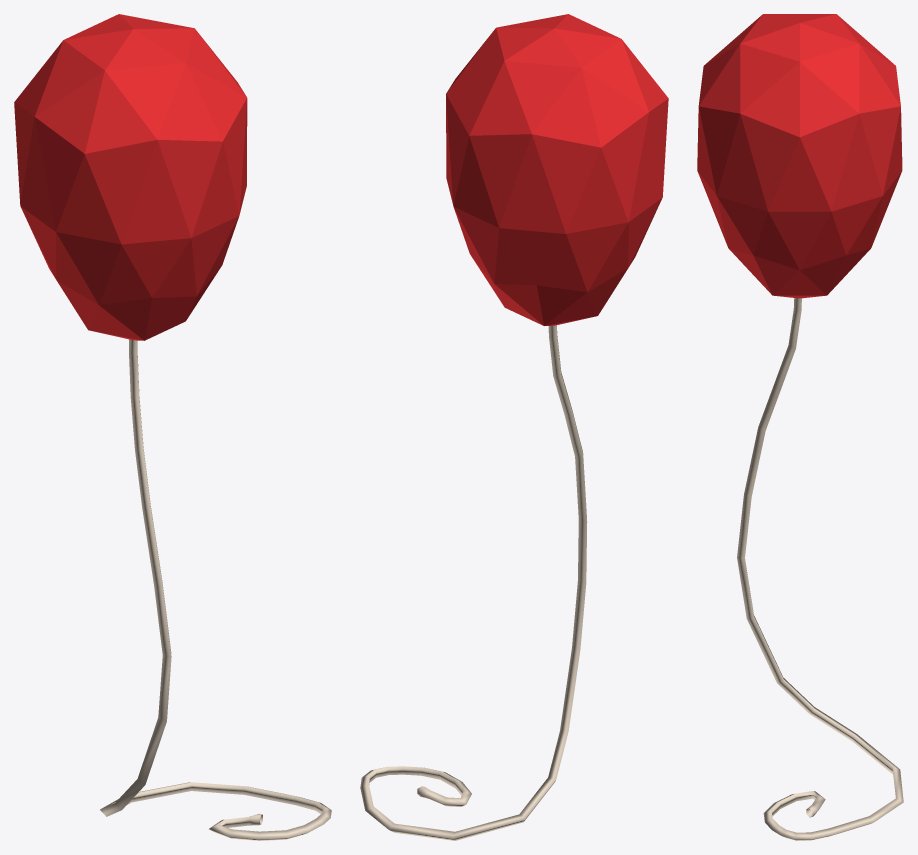
The model's file is BallonRouge.fbx.
The picture shows the model from 3 angles, left to right: view 1: azimuth 30°, elevation 25°; view 2: azimuth 150°, elevation 25°; view 3: azimuth 270°, elevation 25°; orthographic projection. The views are drawn at different scales.
Visible parts, largest first — view 1: BezierCurve; view 2: BezierCurve; view 3: BezierCurve.
Part boxes in pixels (box(x1,y1,x2,y2)): BezierCurve: box(14, 14, 331, 840); BezierCurve: box(360, 14, 668, 840); BezierCurve: box(697, 14, 903, 840).
Bounding box in the file's own units: 1.17 × 3.16 × 0.804.
